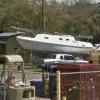Boat: (13, 22, 97, 64)
